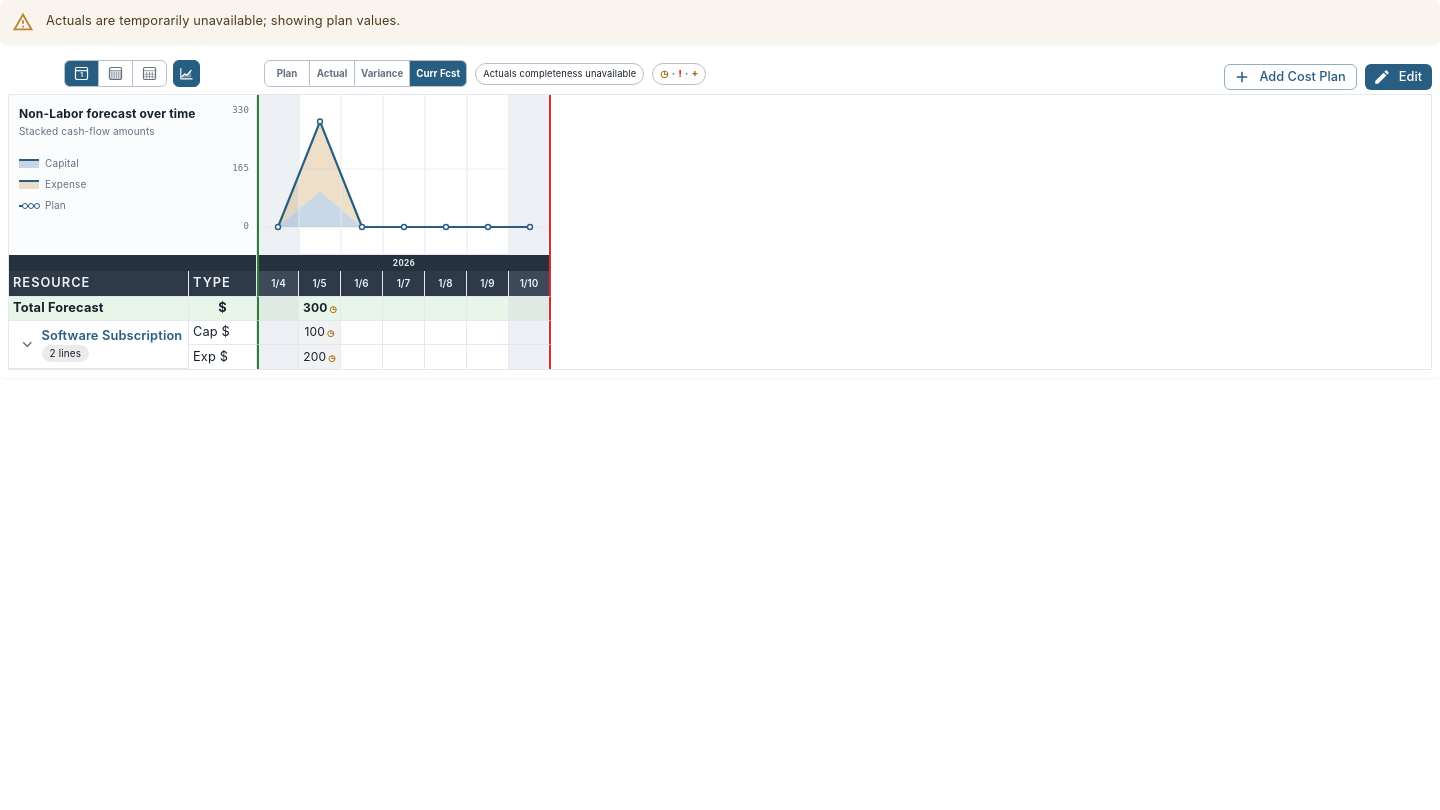
it: NonLaborAssignmentsGrid › opens a selected line in the existing-plan drawer
expect the text "Software Subscription" is shown: met, box [42,327,182,345]
Click the button named "Expand Software Subscription".
click(27, 344)  # box [13,330,42,359]
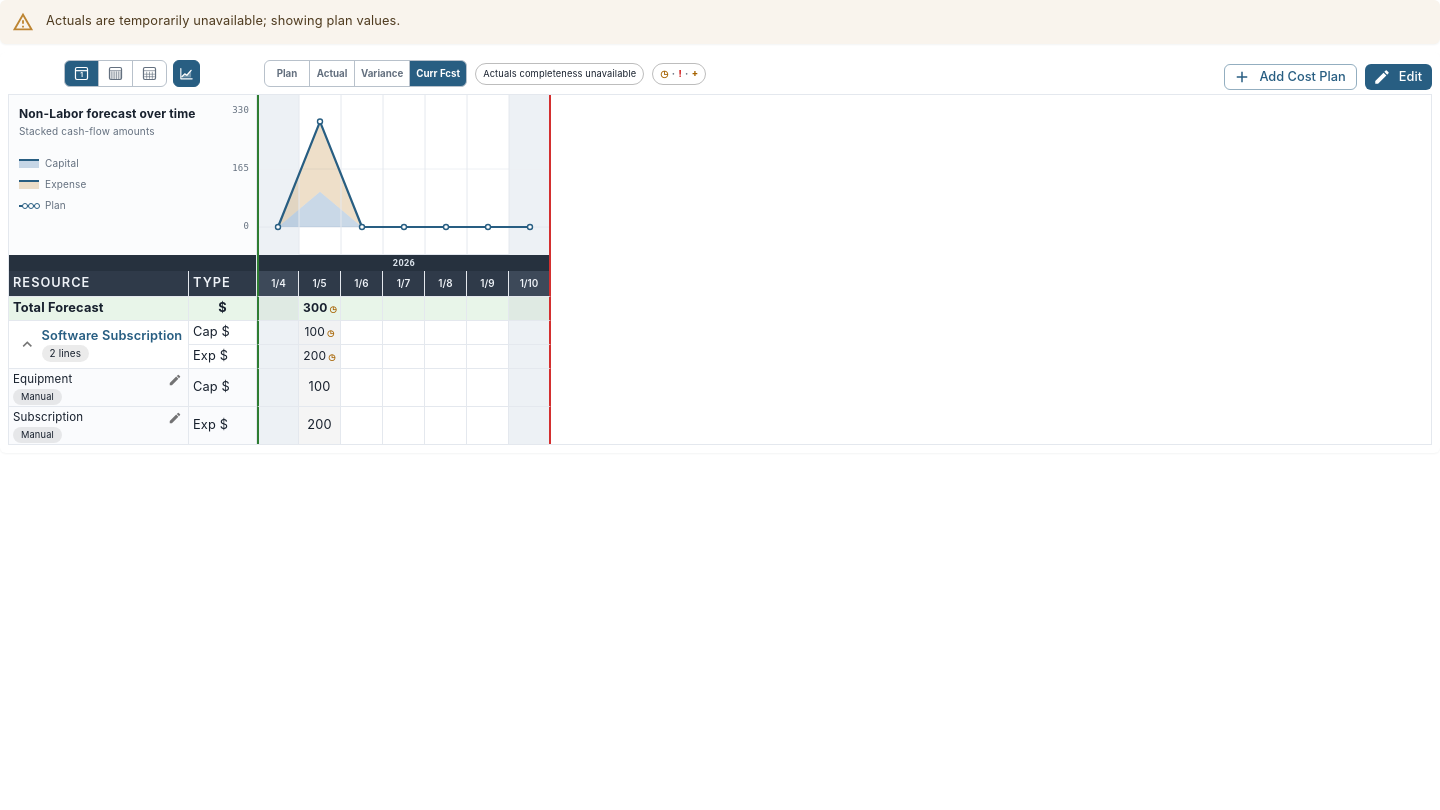
Click the button named "Edit cost plan Equipment".
click(175, 380)  # box [166,370,184,388]
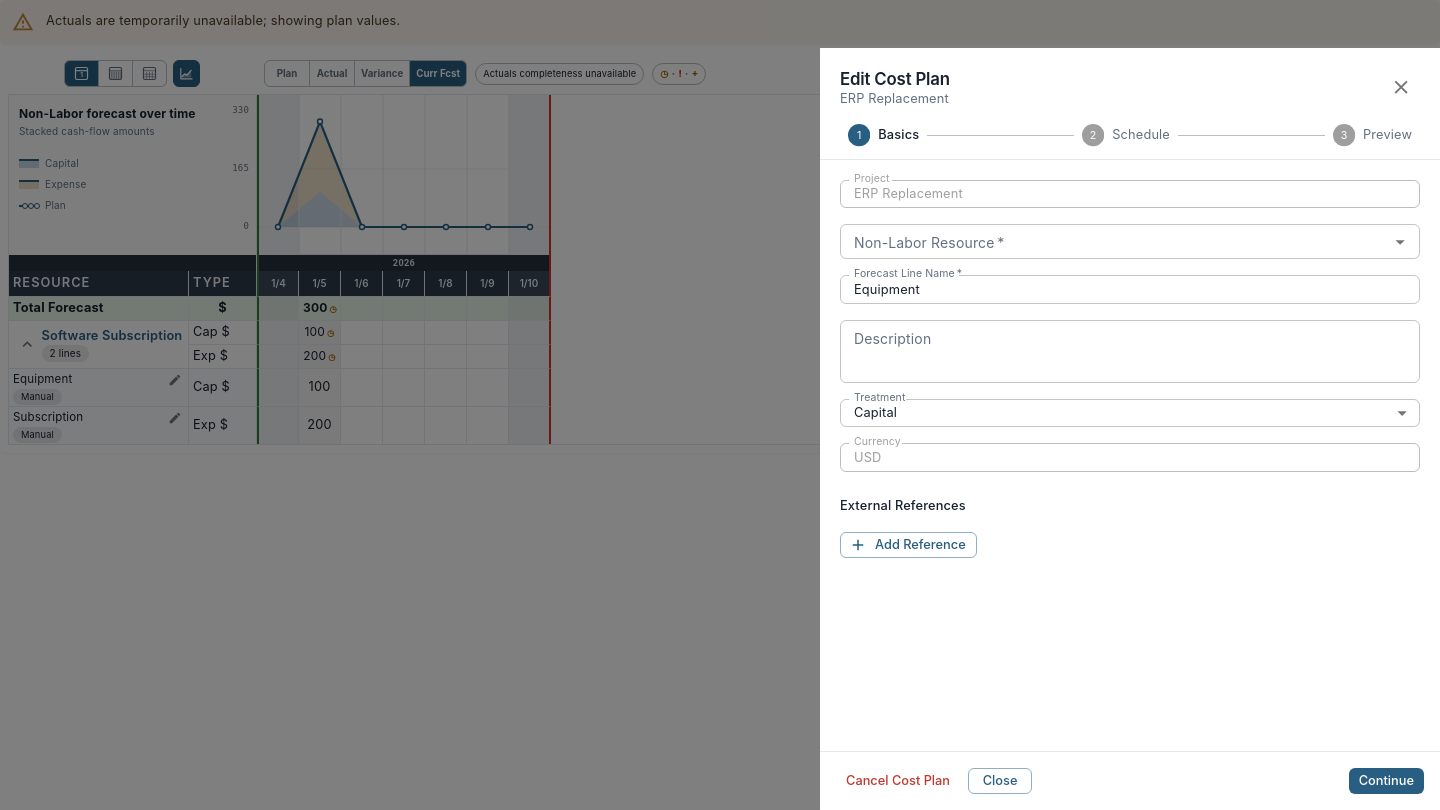
expect the heading "Edit Cost Plan" is shown: met, box [840,69,950,89]
expect the field labelled "Forecast Line Name *" holds "Equipment": met, box [840,275,1420,304]
